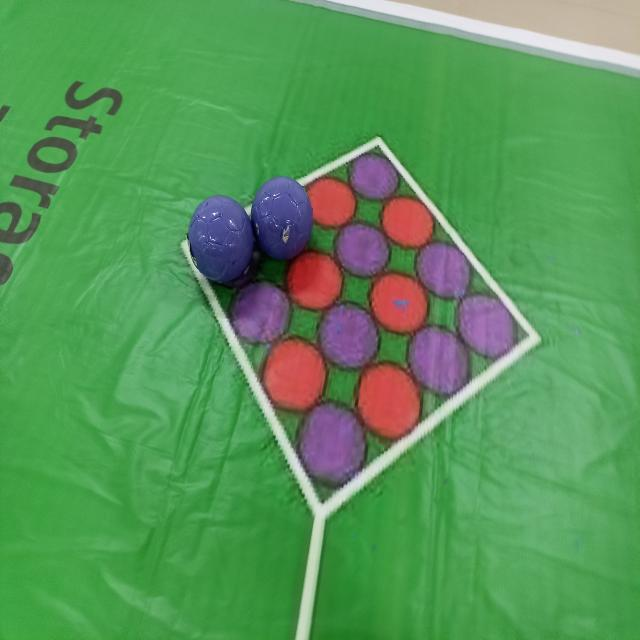purple_ball: (186, 192, 248, 288), (320, 174, 345, 185)
